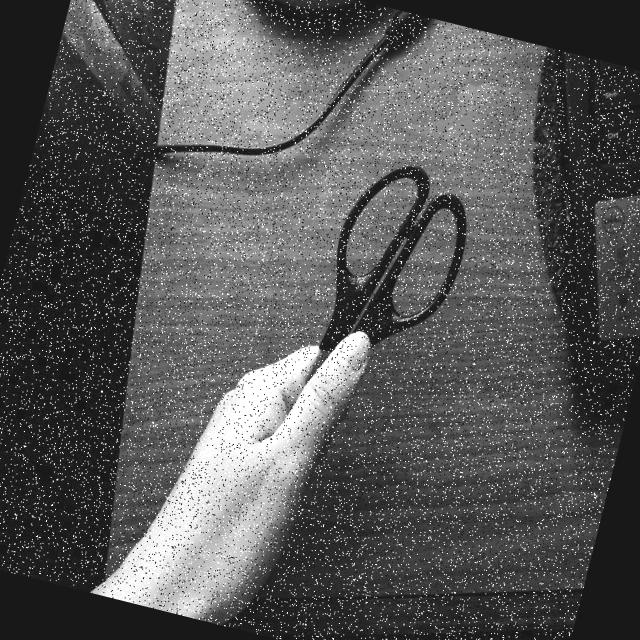scissors: (244, 138, 489, 590)
